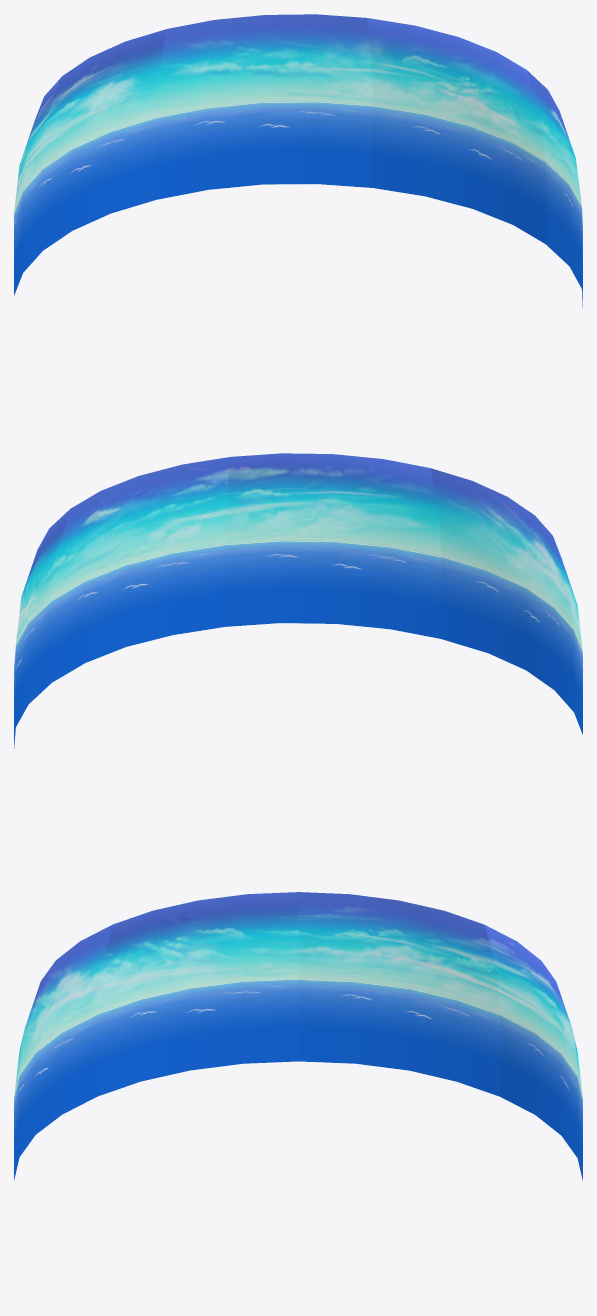
Rendered from sky.gltf.
3 views of the same model, one above another, from view 1: azimuth 30°, elevation 25°; view 2: azimuth 150°, elevation 25°; view 3: azimuth 270°, elevation 25° (orthographic).
Visible parts, largest first — view 1: F_sea, skydome_F; view 2: F_sea, skydome_F; view 3: F_sea, skydome_F.
Part boxes in pixels (bbox=[...]): F_sea: bbox=[14, 101, 582, 307]; skydome_F: bbox=[14, 14, 581, 212]; F_sea: bbox=[14, 540, 582, 748]; skydome_F: bbox=[16, 453, 582, 651]; F_sea: bbox=[14, 978, 582, 1180]; skydome_F: bbox=[14, 892, 582, 1097].
Size of the model in its own units: 5920 by 2051 by 5920.
2 materials, 2 textured.
